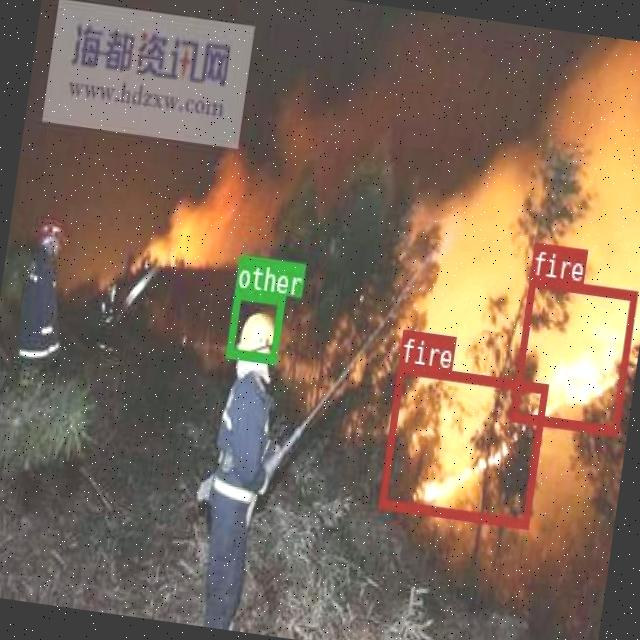fire: (377, 361, 547, 526), (508, 276, 636, 434)
